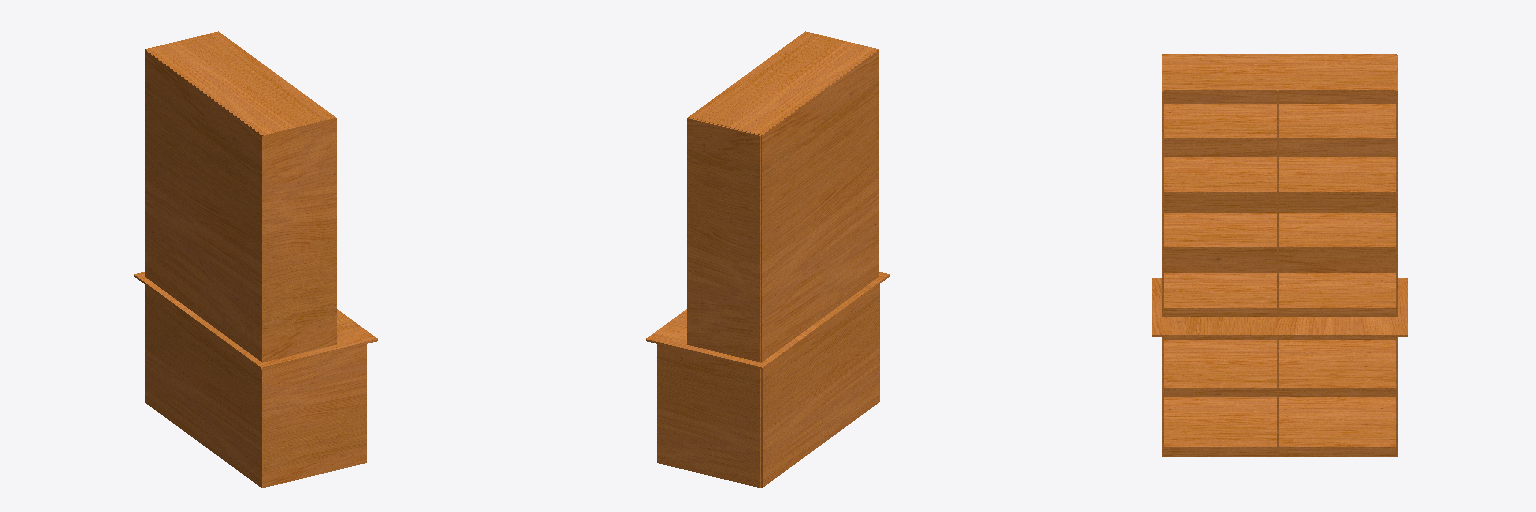
3 views of the same model, side by side, from view 1: azimuth 30°, elevation 25°; view 2: azimuth 150°, elevation 25°; view 3: azimuth 270°, elevation 25° (orthographic).
Parts seen in each view (by area): view 1: Cube; view 2: Cube; view 3: Cube.
Boxes of the visible parts, x1=… form: Cube: x1=134, y1=31, x2=377, y2=487; Cube: x1=646, y1=31, x2=889, y2=487; Cube: x1=1152, y1=54, x2=1407, y2=456.
Bounding box in the file's own units: 4.25 × 12.25 × 8.03.
1 materials, 1 textured.